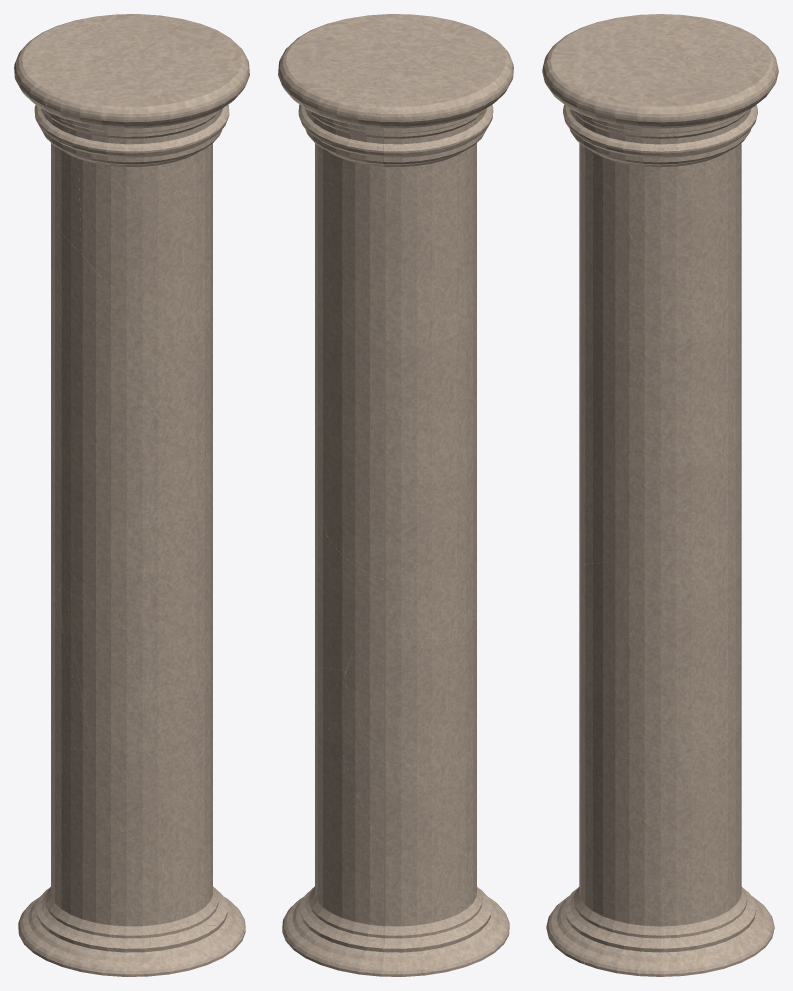
Rendered from columnFracturedNew1.fbx.
The picture shows the model from 3 angles, left to right: view 1: azimuth 30°, elevation 25°; view 2: azimuth 150°, elevation 25°; view 3: azimuth 270°, elevation 25°; orthographic projection.
Parts seen in each view (by area): view 1: Cylinder_cell.002, Cylinder_cell.001, Cylinder_cell.012, Cylinder_cell.008, Cylinder_cell.010, Cylinder_cell.014, Cylinder_cell.013, Cylinder_cell.006, Cylinder_cell.015, Cylinder_cell.017, Cylinder_cell.007, Cylinder_cell_cell.004 (+4 smaller); view 2: Cylinder_cell.006, Cylinder_cell.013, Cylinder_cell.017, Cylinder_cell_cell.004, Cylinder_cell_cell.002, Cylinder_cell.012, Cylinder_cell_cell, Cylinder_cell.014, Cylinder_cell.008, Cylinder_cell.002, Cylinder_cell.016, Cylinder_cell.001 (+4 smaller); view 3: Cylinder_cell.002, Cylinder_cell.008, Cylinder_cell.017, Cylinder_cell.006, Cylinder_cell.015, Cylinder_cell.014, Cylinder_cell.009, Cylinder_cell.013, Cylinder_cell.018, Cylinder_cell.016, Cylinder_cell.005, Cylinder_cell.001 (+1 smaller).
Boxes of the visible parts, box(x1,y1,x2,y2) form: Cylinder_cell.002: box(51, 251, 212, 609); Cylinder_cell.001: box(46, 72, 198, 287); Cylinder_cell.012: box(18, 787, 160, 976); Cylinder_cell.008: box(118, 536, 212, 798); Cylinder_cell.010: box(66, 591, 163, 873); Cylinder_cell.014: box(130, 20, 249, 185); Cylinder_cell.013: box(14, 24, 129, 252); Cylinder_cell.006: box(51, 198, 113, 501); Cylinder_cell.015: box(162, 741, 212, 891); Cylinder_cell.017: box(25, 862, 245, 942); Cylinder_cell.007: box(135, 921, 242, 976); Cylinder_cell_cell.004: box(51, 596, 92, 749); Cylinder_cell.006: box(315, 173, 476, 580); Cylinder_cell.013: box(306, 60, 508, 232); Cylinder_cell.017: box(282, 732, 422, 976); Cylinder_cell_cell.004: box(346, 607, 476, 765); Cylinder_cell_cell.002: box(348, 720, 476, 913); Cylinder_cell.012: box(419, 763, 509, 975); Cylinder_cell_cell: box(343, 578, 462, 685); Cylinder_cell.014: box(278, 14, 454, 156); Cylinder_cell.008: box(315, 517, 423, 671); Cylinder_cell.002: box(315, 312, 476, 585); Cylinder_cell.016: box(278, 59, 394, 129); Cylinder_cell.001: box(419, 21, 513, 235); Cylinder_cell.002: box(579, 234, 732, 563); Cylinder_cell.008: box(579, 534, 741, 774); Cylinder_cell.017: box(574, 720, 774, 976); Cylinder_cell.006: box(641, 168, 741, 536); Cylinder_cell.015: box(579, 650, 740, 900); Cylinder_cell.014: box(542, 56, 735, 185); Cylinder_cell.009: box(609, 169, 713, 286); Cylinder_cell.013: box(634, 14, 776, 192); Cylinder_cell.018: box(583, 181, 656, 307); Cylinder_cell.016: box(663, 53, 778, 139); Cylinder_cell.005: box(646, 717, 736, 885); Cylinder_cell.001: box(543, 15, 643, 237).
Size of the model in its own units: 521 by 2112 by 521.
